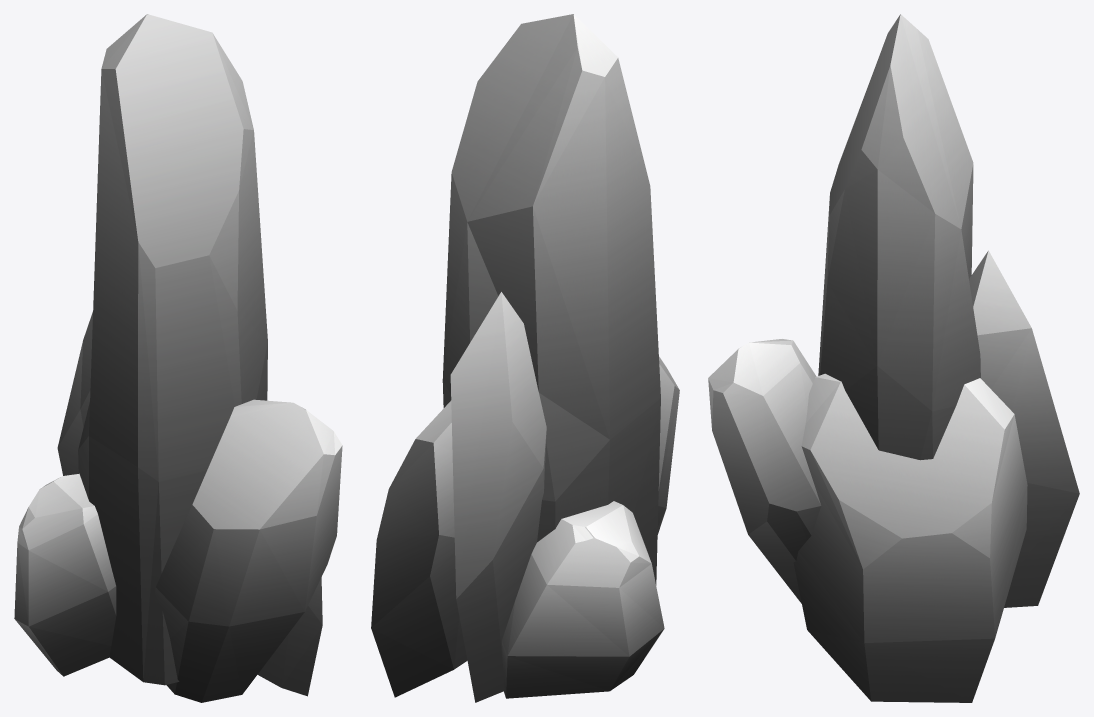
File: CrystalShardCluster_A.fbx
3 views of the same model, side by side, from view 1: azimuth 30°, elevation 25°; view 2: azimuth 150°, elevation 25°; view 3: azimuth 270°, elevation 25° (orthographic). The views are drawn at different scales.
Parts seen in each view (by area): view 1: CrystalShardCluster_A; view 2: CrystalShardCluster_A; view 3: CrystalShardCluster_A.
Boxes of the visible parts, x1,y1,x2,y2 form: CrystalShardCluster_A: (14,14,342,702); CrystalShardCluster_A: (371,14,679,702); CrystalShardCluster_A: (708,14,1079,702).
Bounding box in the file's own units: 162 × 418 × 225.
1 material, 1 textured.
